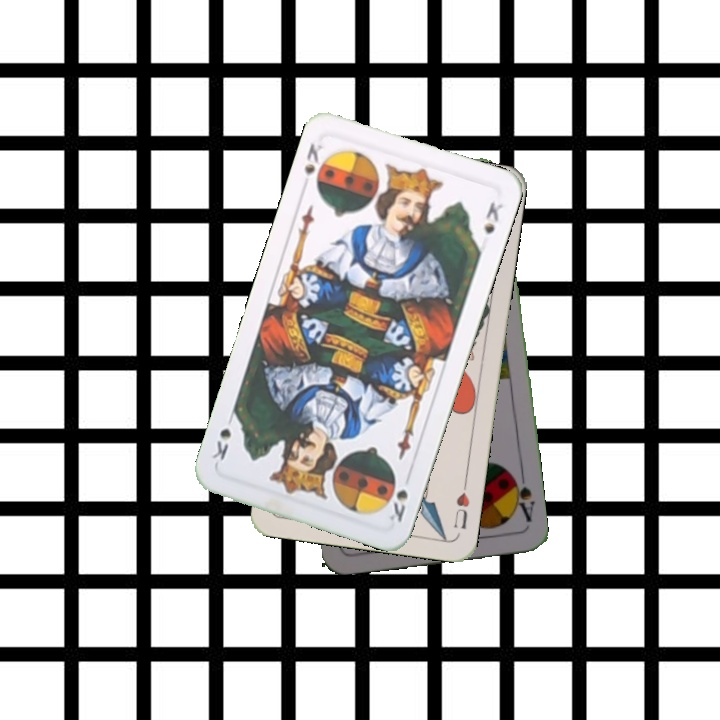HU: (449, 477, 472, 532)
SA: (507, 470, 537, 525)
SK: (300, 139, 331, 194), (384, 475, 411, 526)
